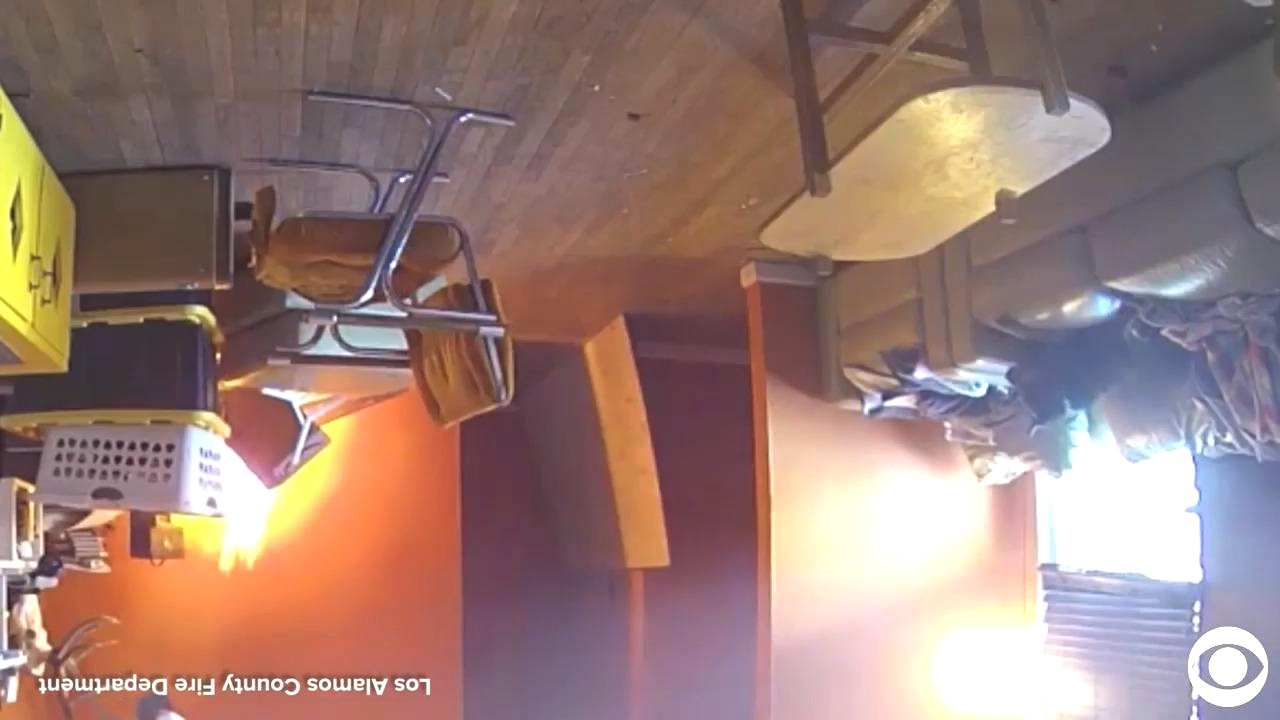fire: (211, 471, 306, 571)
